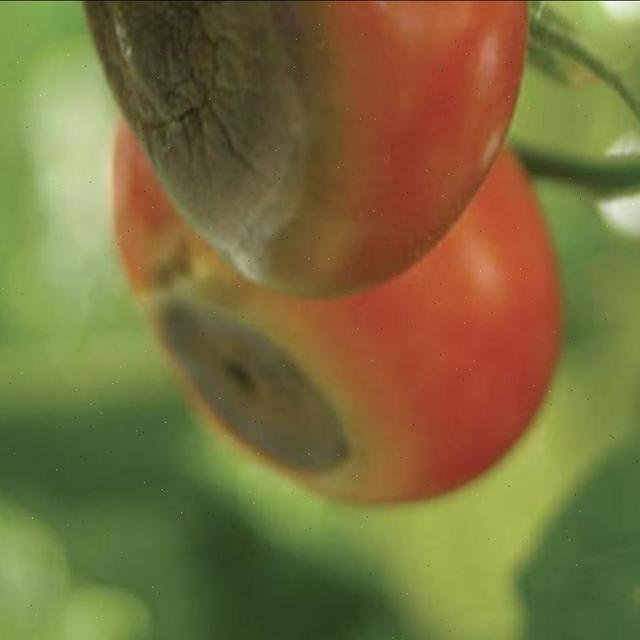Blossom End Rot Fruit: (143, 87, 179, 262)
